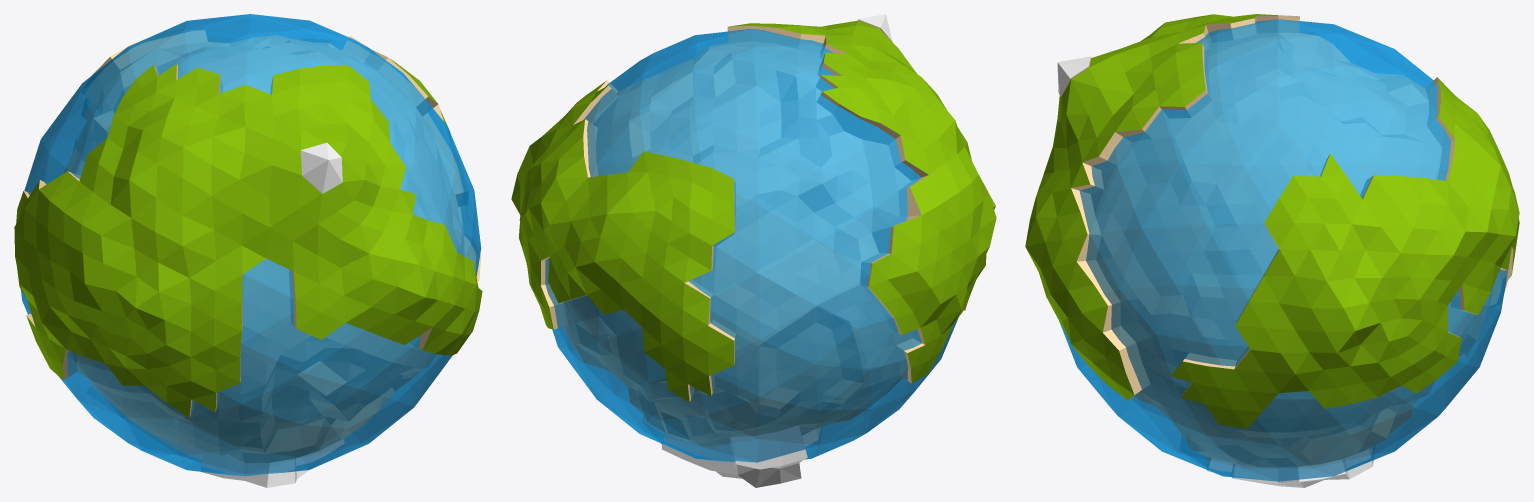
File: Planeta_2.fbx
3 views of the same model, side by side, from view 1: azimuth 30°, elevation 25°; view 2: azimuth 150°, elevation 25°; view 3: azimuth 270°, elevation 25° (orthographic). The views are drawn at different scales.
Parts seen in each view (by area): view 1: Esfera_2, Esfera; view 2: Esfera_2, Esfera; view 3: Esfera_2, Esfera.
Part boxes in pixels (<box>): Esfera_2: <box>14,30,482,487</box>; Esfera: <box>20,14,481,476</box>; Esfera_2: <box>511,14,996,487</box>; Esfera: <box>545,29,958,462</box>; Esfera_2: <box>1025,14,1519,487</box>; Esfera: <box>1059,19,1507,481</box>.
Bounding box in the file's own units: 6904 × 6578 × 6791.
